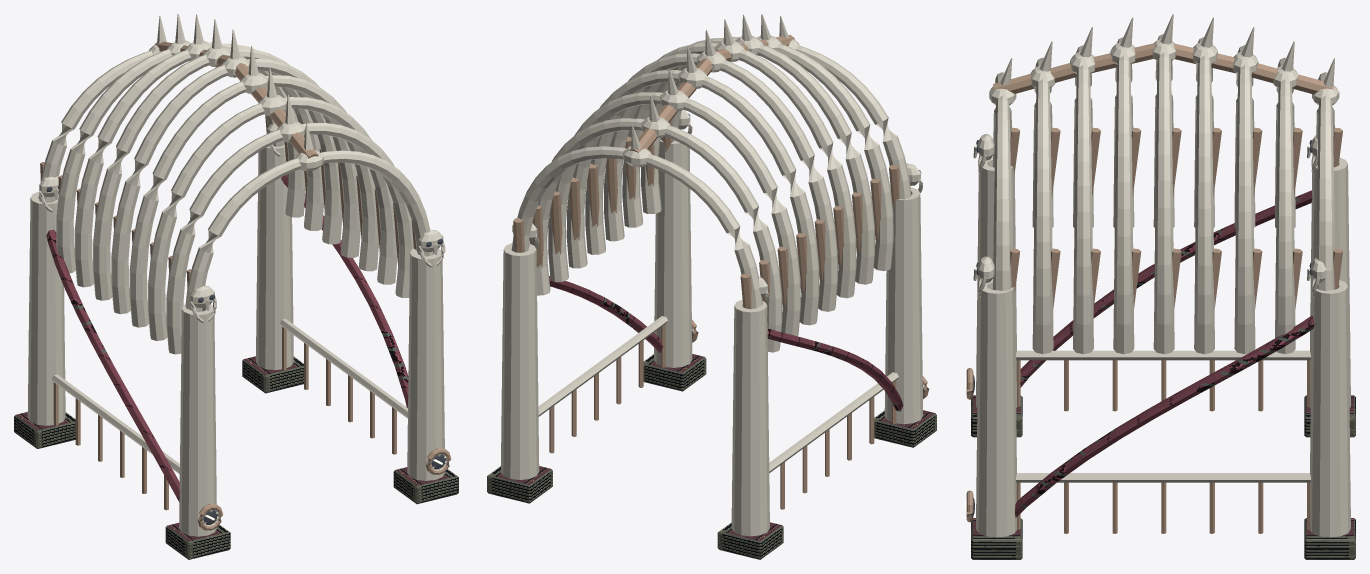
The model's file is ossuary_rib_bridge.glb.
3 renders of one model, left to right at view 1: azimuth 30°, elevation 25°; view 2: azimuth 150°, elevation 25°; view 3: azimuth 270°, elevation 25°, orthographic. The views are drawn at different scales.
Visible parts, largest first — view 1: ossuary_rib_bridge_warm, ossuary_rib_bridge_worn, ossuary_rib_bridge_petrol, ossuary_rib_bridge_bruised; view 2: ossuary_rib_bridge_warm, ossuary_rib_bridge_worn, ossuary_rib_bridge_petrol, ossuary_rib_bridge_bruised; view 3: ossuary_rib_bridge_warm, ossuary_rib_bridge_worn, ossuary_rib_bridge_bruised, ossuary_rib_bridge_petrol.
Boxes of the visible parts, <box> form: ossuary_rib_bridge_warm: <box>27,14,447,536</box>; ossuary_rib_bridge_worn: <box>40,41,451,530</box>; ossuary_rib_bridge_petrol: <box>14,356,458,559</box>; ossuary_rib_bridge_bruised: <box>46,175,408,501</box>; ossuary_rib_bridge_warm: <box>500,14,924,536</box>; ossuary_rib_bridge_worn: <box>513,34,929,509</box>; ossuary_rib_bridge_petrol: <box>487,354,936,559</box>; ossuary_rib_bridge_bruised: <box>549,276,903,411</box>; ossuary_rib_bridge_warm: <box>967,14,1350,537</box>; ossuary_rib_bridge_worn: <box>966,43,1342,533</box>; ossuary_rib_bridge_bruised: <box>1015,190,1314,517</box>; ossuary_rib_bridge_petrol: <box>971,395,1355,559</box>.
Bounding box in the file's own units: 4.64 × 7 × 5.23.
Materials: 6 (2 with a texture image).
